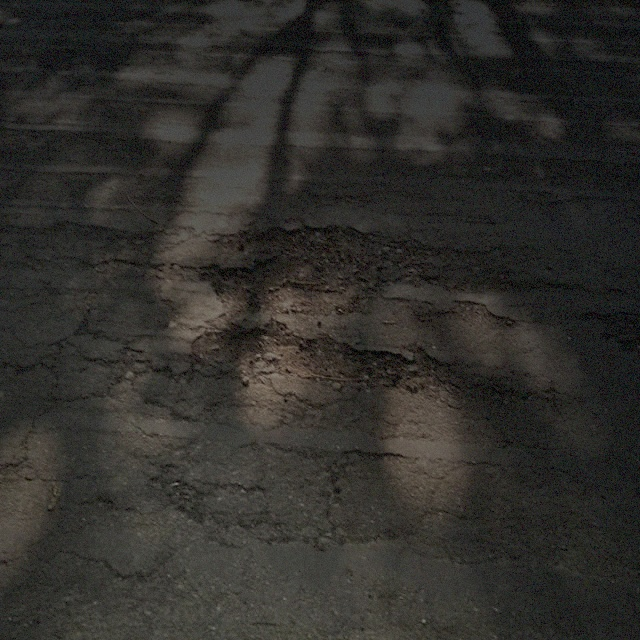pothole: (200, 222, 433, 318), (186, 322, 452, 404)
